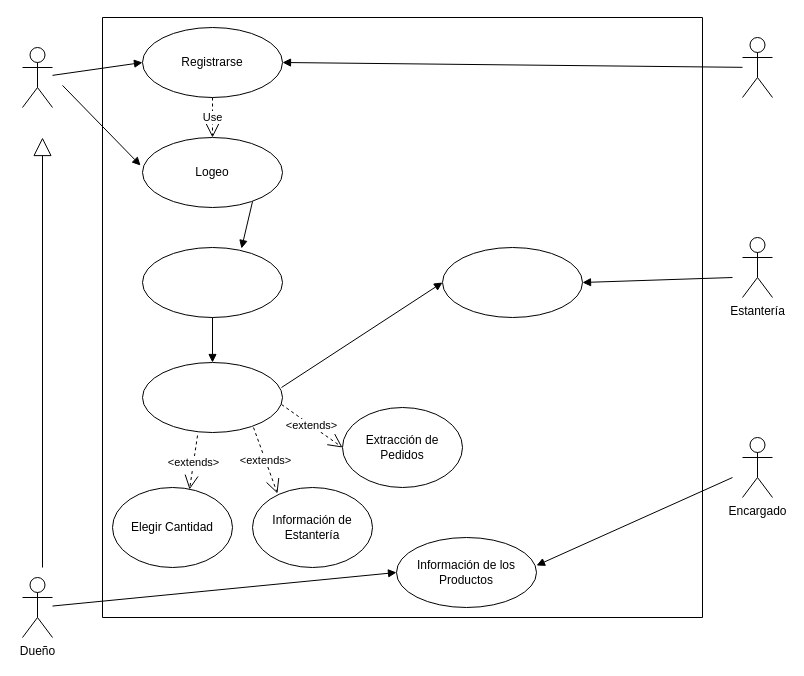
Some shapes in this 804 by 676 pixel diagram are drawn without their labels. The box of each missing label's shape, as (x1, y1, x2, y2) in pixels:
BD Usuario: (742, 36, 772, 98)
Cargar Datos del Pedido: (442, 246, 582, 318)
Ingresar Pedido: (142, 246, 282, 318)
Seleccionar Pedido: (142, 362, 282, 432)
Usuario: (22, 46, 52, 108)
